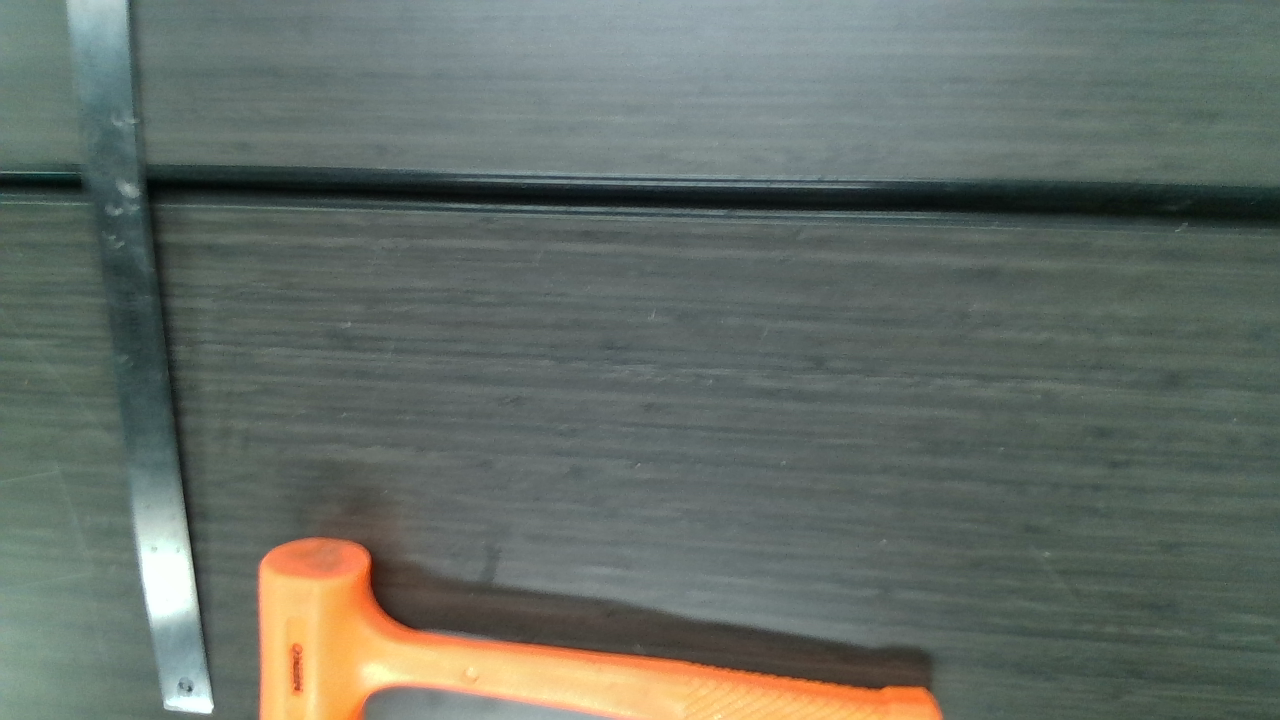Orange Hammer: (262, 540, 951, 720)
